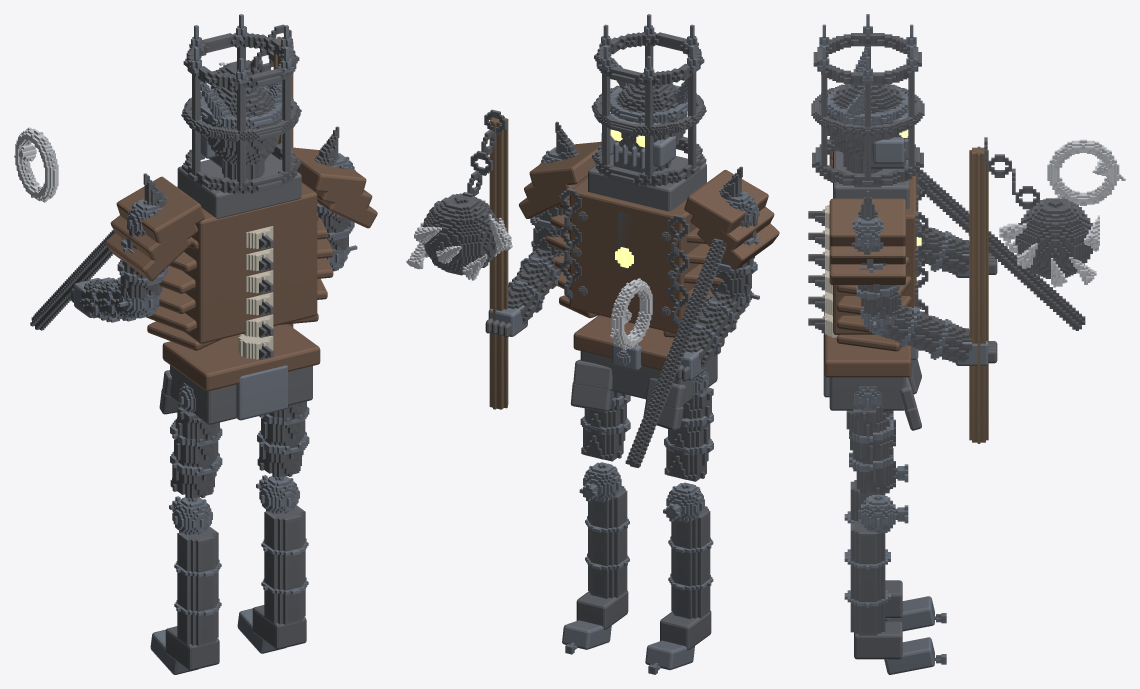
Rendered from enemy_04_inquisitor_rackmaster.glb.
The picture shows the model from 3 angles, left to right: view 1: azimuth 30°, elevation 25°; view 2: azimuth 150°, elevation 25°; view 3: azimuth 270°, elevation 25°; orthographic projection. The views are drawn at different scales.
Parts seen in each view (by area): view 1: Torso, Head, Pelvis, ShinR, ShinL, ForearmL, ThighL, ThighR, UpperArmL, ForearmR, UpperArmR; view 2: Torso, ForearmR, Head, ForearmL, Pelvis, ShinR, ShinL, ThighL, SecondaryProp, ThighR, UpperArmL, UpperArmR; view 3: ForearmR, Head, Torso, ShinR, ForearmL, Pelvis, ThighR, ShinL, UpperArmR, SecondaryProp.
Boxes of the visible parts, x1=… form: Torso: x1=105, y1=126, x2=377, y2=359; Head: x1=181, y1=14, x2=301, y2=194; Pelvis: x1=159, y1=324, x2=320, y2=424; ShinR: x1=237, y1=475, x2=308, y2=653; ShinL: x1=150, y1=496, x2=221, y2=674; ForearmL: x1=14, y1=127, x2=162, y2=330; ThighL: x1=170, y1=383, x2=222, y2=498; ThighR: x1=257, y1=401, x2=309, y2=477; UpperArmL: x1=117, y1=199, x2=168, y2=300; ForearmR: x1=200, y1=24, x2=357, y2=327; UpperArmR: x1=317, y1=153, x2=355, y2=251; Torso: x1=519, y1=121, x2=779, y2=337; ForearmR: x1=406, y1=109, x2=564, y2=409; Head: x1=591, y1=14, x2=706, y2=186; ForearmL: x1=610, y1=238, x2=759, y2=467; Pelvis: x1=570, y1=315, x2=724, y2=430; ShinR: x1=562, y1=462, x2=629, y2=654; ShinL: x1=645, y1=482, x2=713, y2=674; ThighL: x1=664, y1=371, x2=713, y2=481; SecondaryProp: x1=560, y1=188, x2=689, y2=324; ThighR: x1=580, y1=391, x2=630, y2=461; UpperArmL: x1=710, y1=191, x2=760, y2=297; UpperArmR: x1=530, y1=147, x2=568, y2=253; ForearmR: x1=860, y1=137, x2=1099, y2=443; Head: x1=811, y1=14, x2=924, y2=187; Torso: x1=808, y1=136, x2=921, y2=351; ShinR: x1=844, y1=494, x2=946, y2=674; ForearmL: x1=917, y1=139, x2=1125, y2=330; Pelvis: x1=823, y1=311, x2=921, y2=430; ThighR: x1=846, y1=386, x2=895, y2=494; ShinL: x1=844, y1=464, x2=946, y2=631; UpperArmR: x1=851, y1=216, x2=901, y2=319; SecondaryProp: x1=915, y1=172, x2=928, y2=314.
Bounding box in the file's own units: 0.8416 × 1.95 × 0.9133.
